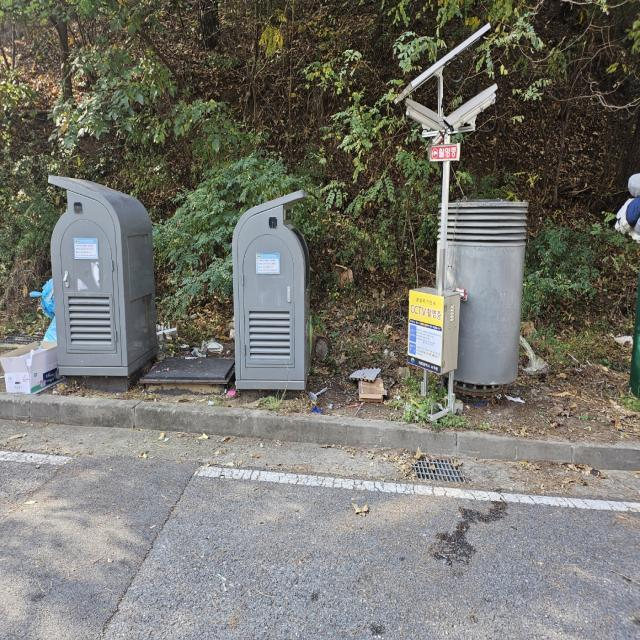CleanNet: (41, 169, 164, 384), (231, 182, 320, 402)
General Waste: (2, 334, 68, 398), (348, 359, 392, 409)
